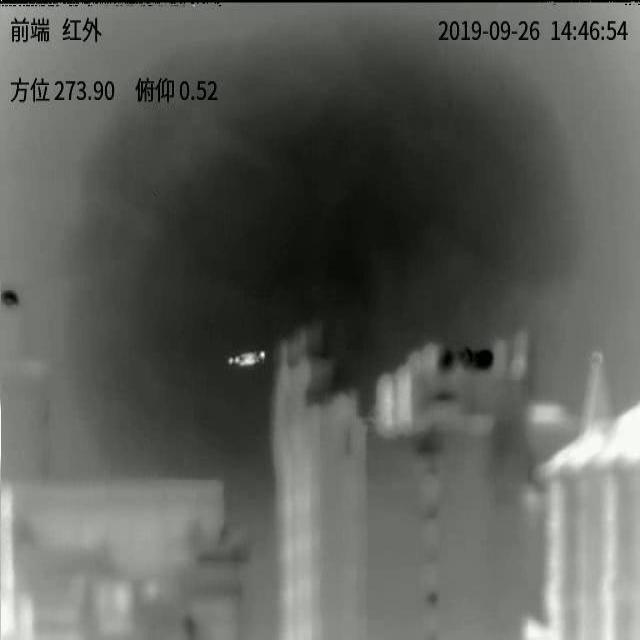drone: (227, 351, 266, 367)
